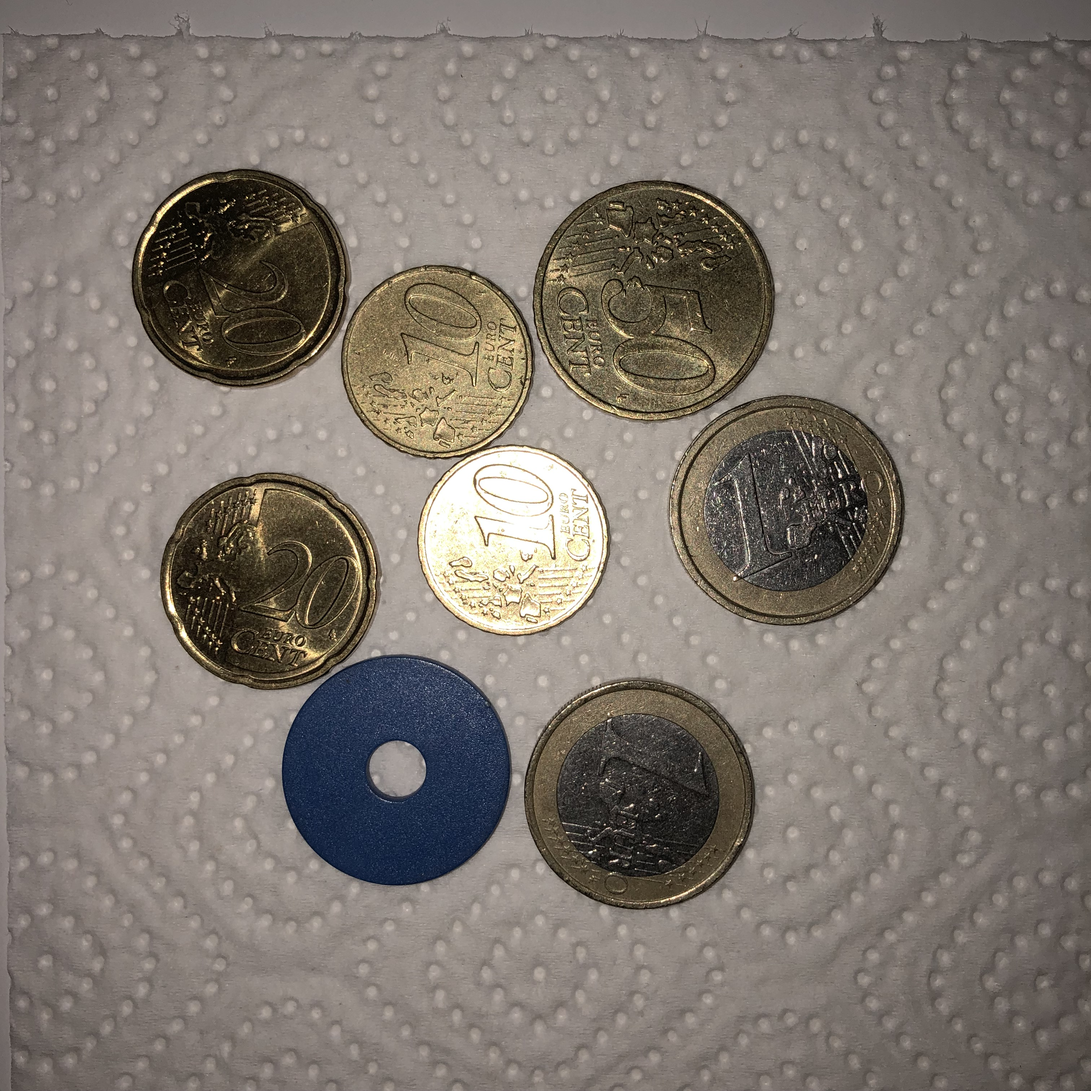1 euro: (520, 678, 760, 914), (664, 395, 904, 631)
10 cent: (340, 264, 538, 462), (414, 442, 611, 640)
20 cent: (125, 166, 353, 390), (154, 469, 381, 693)
50 cent: (529, 177, 781, 424)
